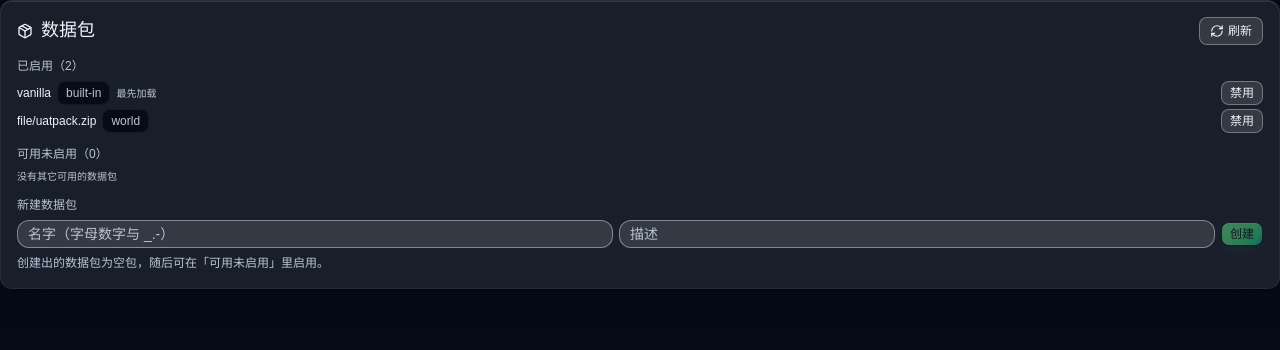
Scenario: DatapackPanel › 创建：正常描述发出去并清空表单
Expected: the text "file/uatpack.zip" is shown, [17,112,96,130]
Type "uatnew" into the field named "新数据包名字". click: (315, 234)
box: [17,220,613,248]
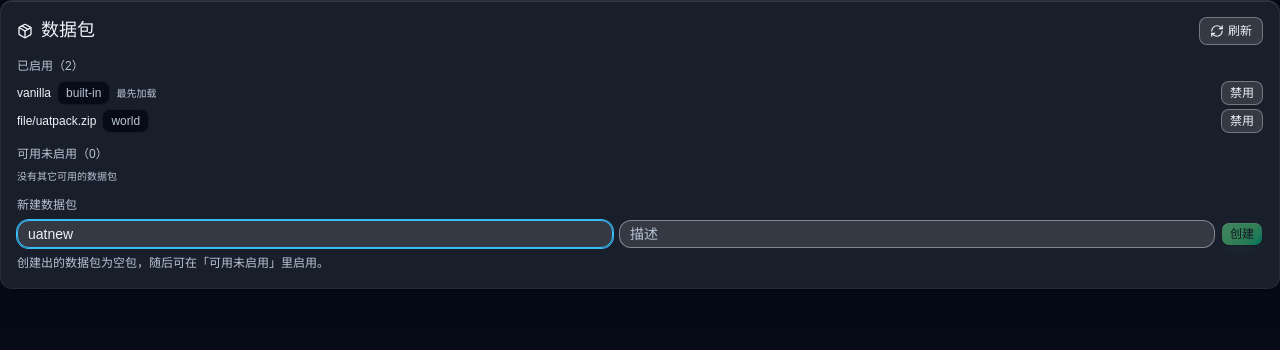
Type "UAT 新建" into the field named "新数据包描述". click: (917, 234)
box: [619,220,1215,248]
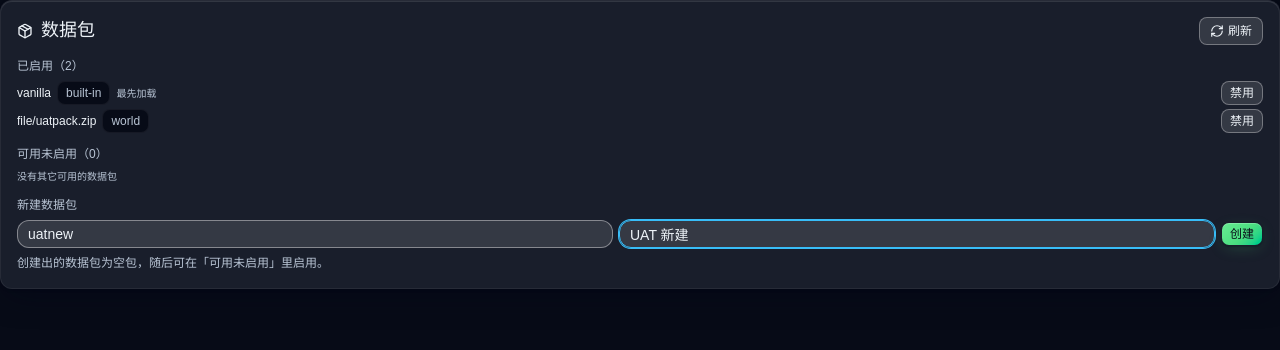
Click the button "创建". click: (1242, 234)
box: [1221,222,1263,246]
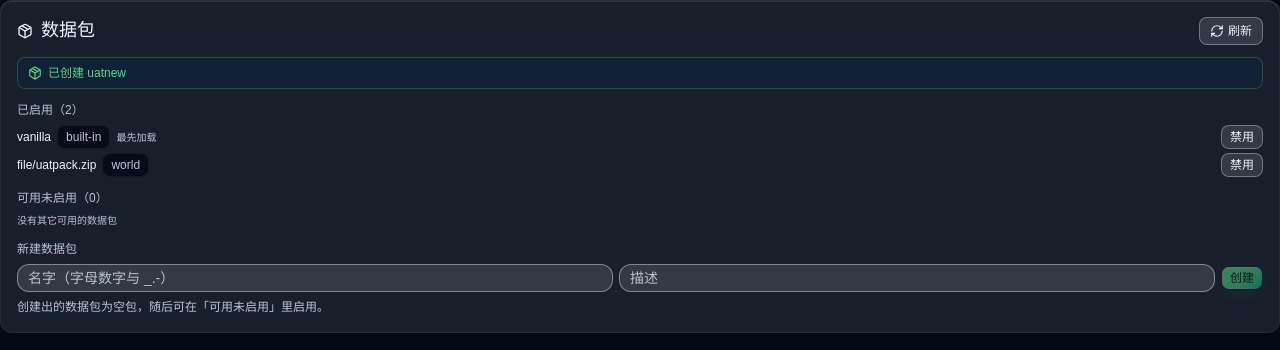
Expected: the text "已创建 uatnew" is shown, [48,66,126,80]
Expected: the field named "新数据包名字" is empty, [17,264,613,292]
